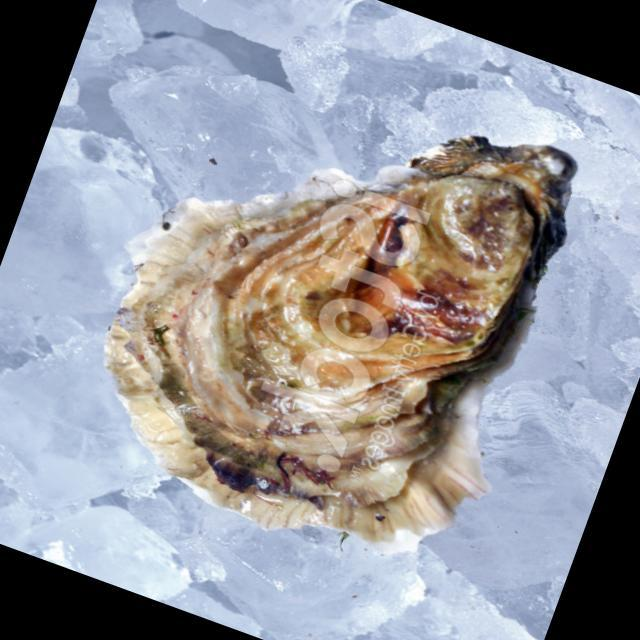Oyster- Indeterminate: (46, 18, 600, 595)
